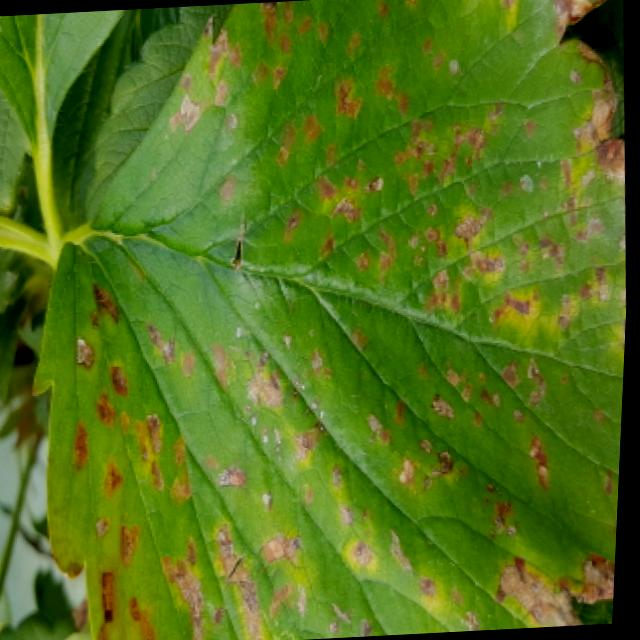Angular Leafspot: (36, 0, 629, 640)
